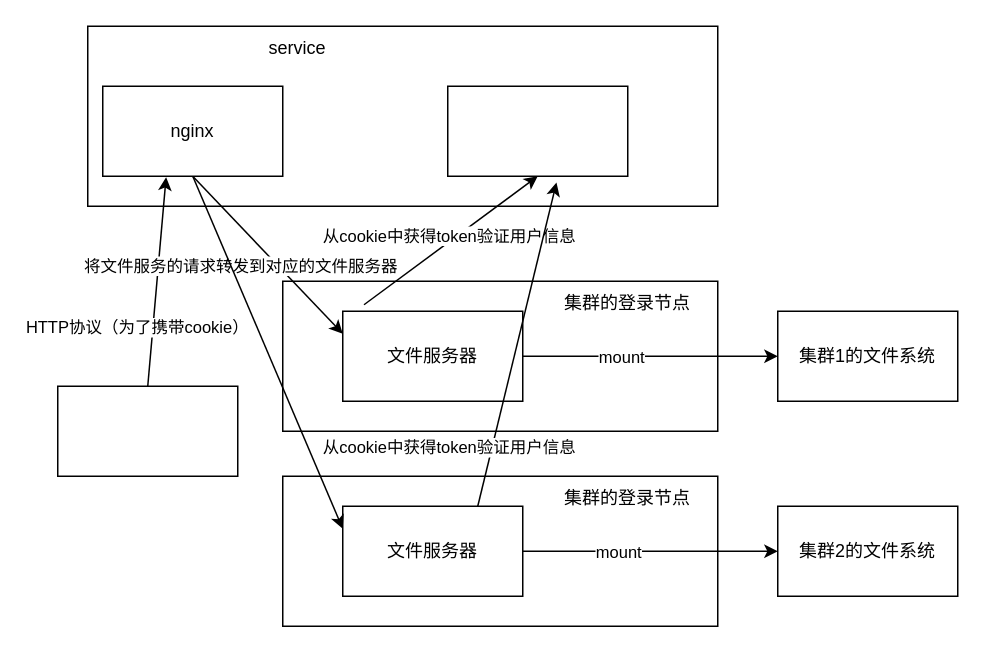
Image size: 984x653. Some labels were removed from this diagram. The centre of each missing label's shape, as x and y in pixels:
"redis：认证信息" goes at [537,130].
"浏览器" goes at [147,430].
